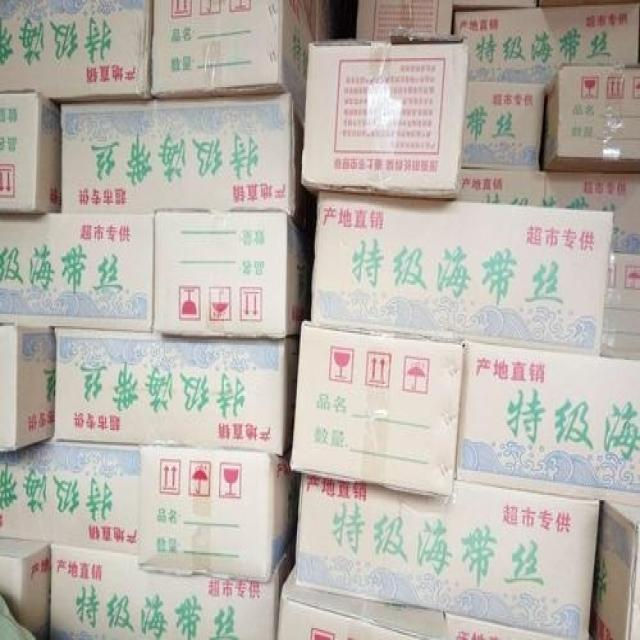box: (294, 469, 600, 640), (308, 195, 614, 357), (59, 90, 308, 234), (289, 319, 466, 498), (454, 340, 639, 507), (54, 329, 300, 454), (302, 22, 467, 196), (50, 536, 296, 638), (136, 445, 298, 582), (150, 0, 317, 125), (150, 210, 310, 336), (0, 212, 154, 335), (0, 0, 156, 108), (454, 3, 639, 84), (276, 565, 447, 640), (540, 63, 640, 172), (545, 171, 640, 253), (0, 90, 60, 212), (462, 82, 544, 171), (0, 323, 54, 451), (590, 500, 640, 638), (0, 538, 51, 640), (602, 251, 640, 362), (460, 167, 545, 208), (445, 616, 561, 640)
